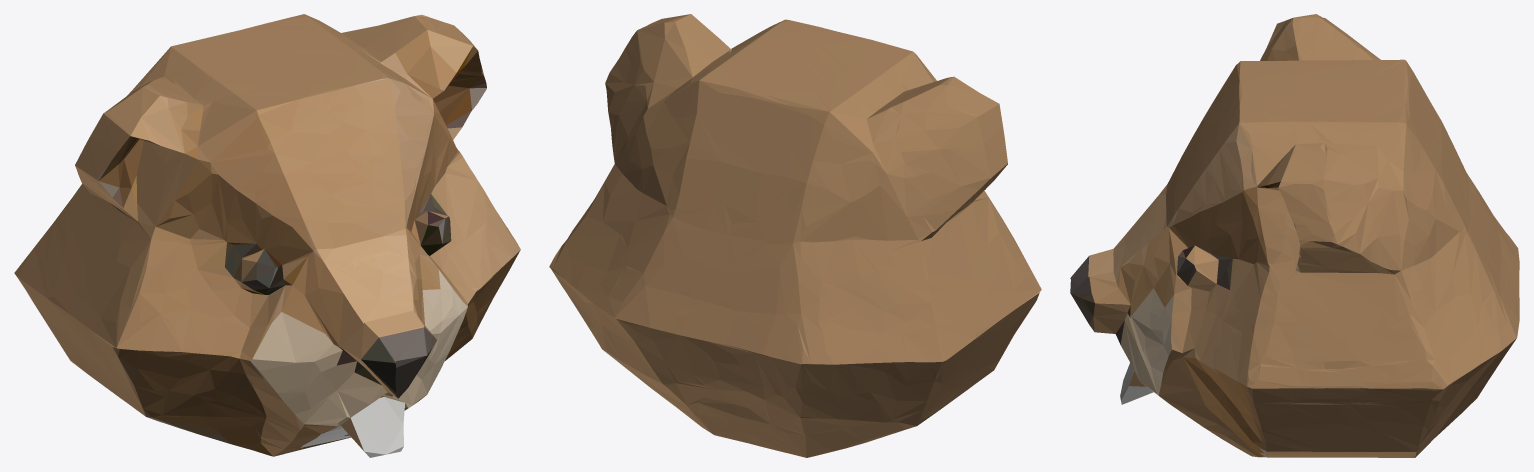
The model's file is castor.glb.
3 renders of one model, left to right at view 1: azimuth 30°, elevation 25°; view 2: azimuth 150°, elevation 25°; view 3: azimuth 270°, elevation 25°, orthographic. The views are drawn at different scales.
Parts seen in each view (by area): view 1: castor; view 2: castor; view 3: castor.
Boxes of the visible parts, box(x1,y1,x2,y2) form: castor: box(14, 14, 520, 457); castor: box(549, 14, 1041, 457); castor: box(1070, 14, 1519, 457).
Bounding box in the file's own units: 2 × 1.74 × 1.99.
